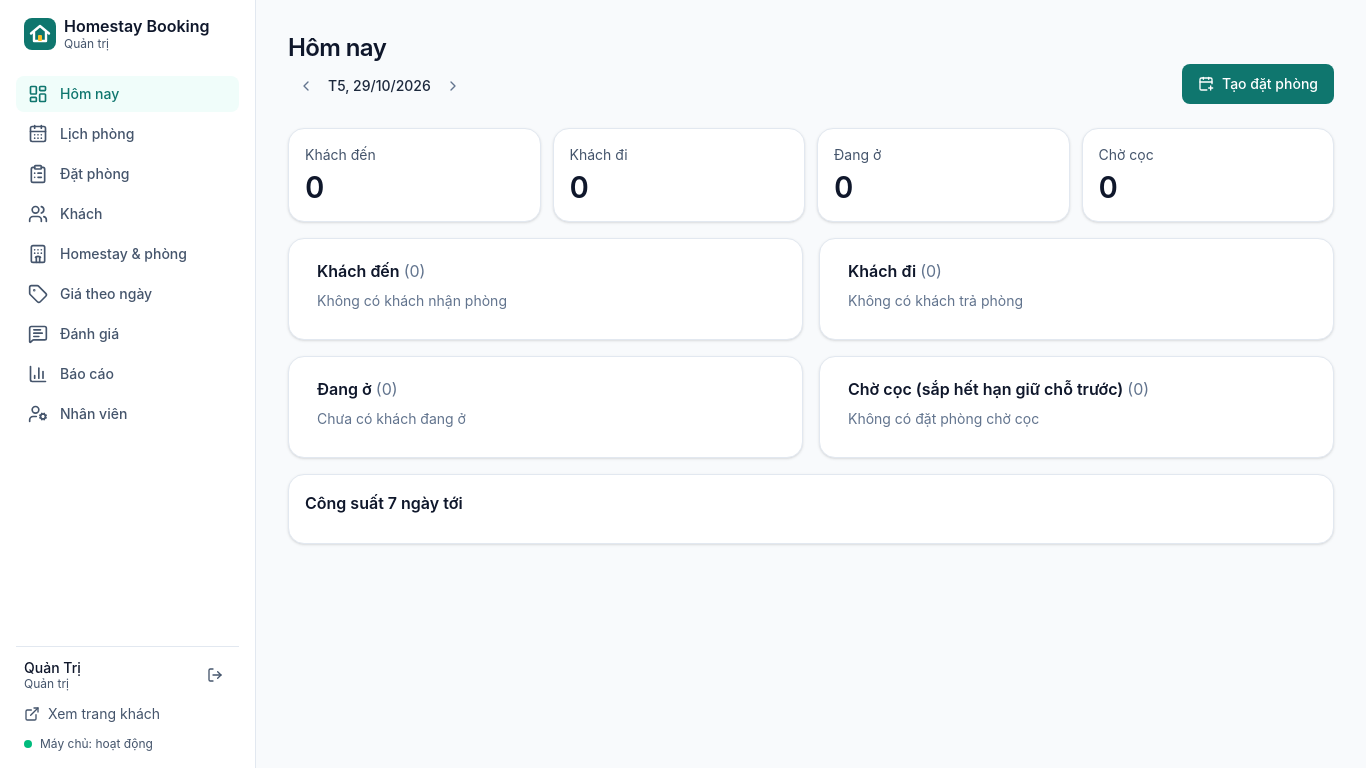
khu quản trị › admin: sidebar đủ mục, mục đang mở được đánh dấu, chuyển trang khi bấm
The width and height of the screenshot is (1366, 768).
Expected: the text "Quản Trị" is shown, [24, 658, 81, 676]
What coordinates should you click on to do the following:
click the link "Lịch phòng"
I would click on:
 (81, 134)
Its box is [28, 124, 134, 144].
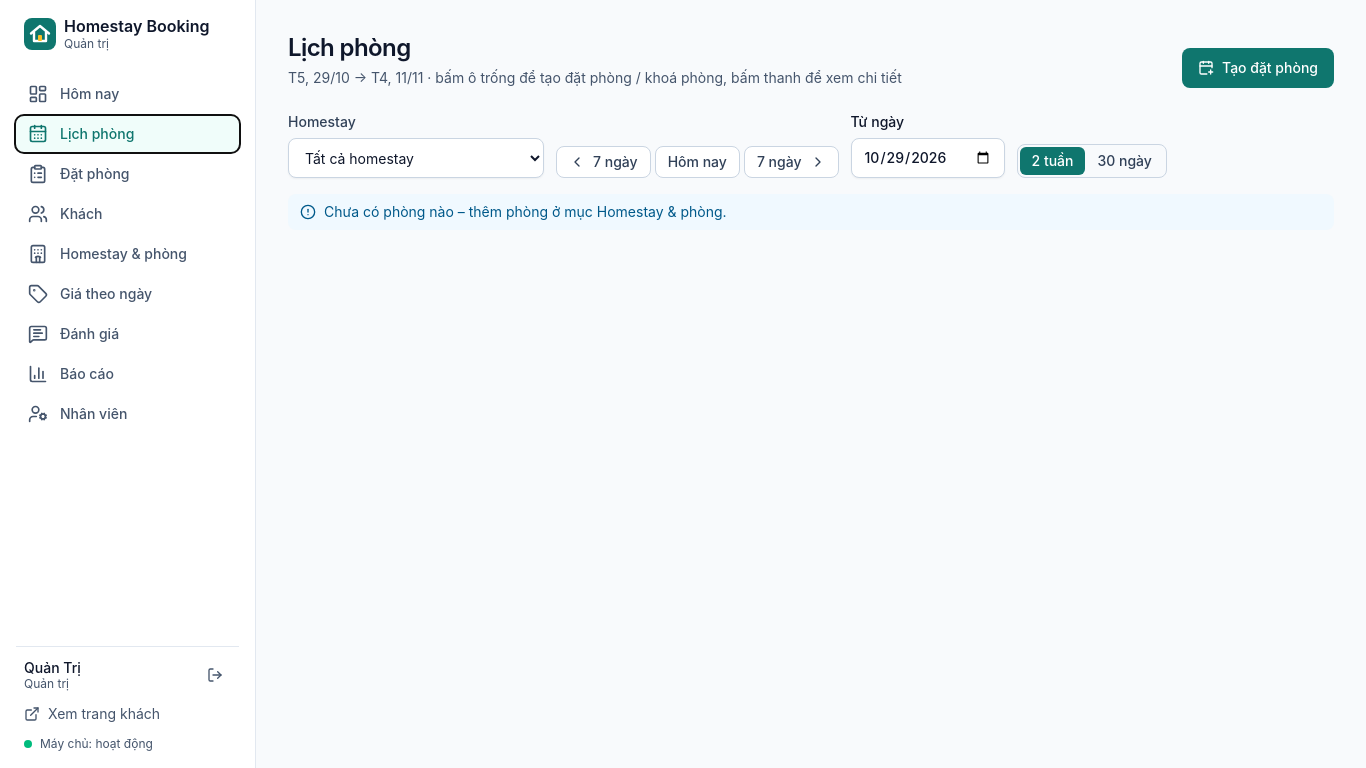
Expected: the heading "Lịch phòng" is shown, [288, 33, 411, 62]
